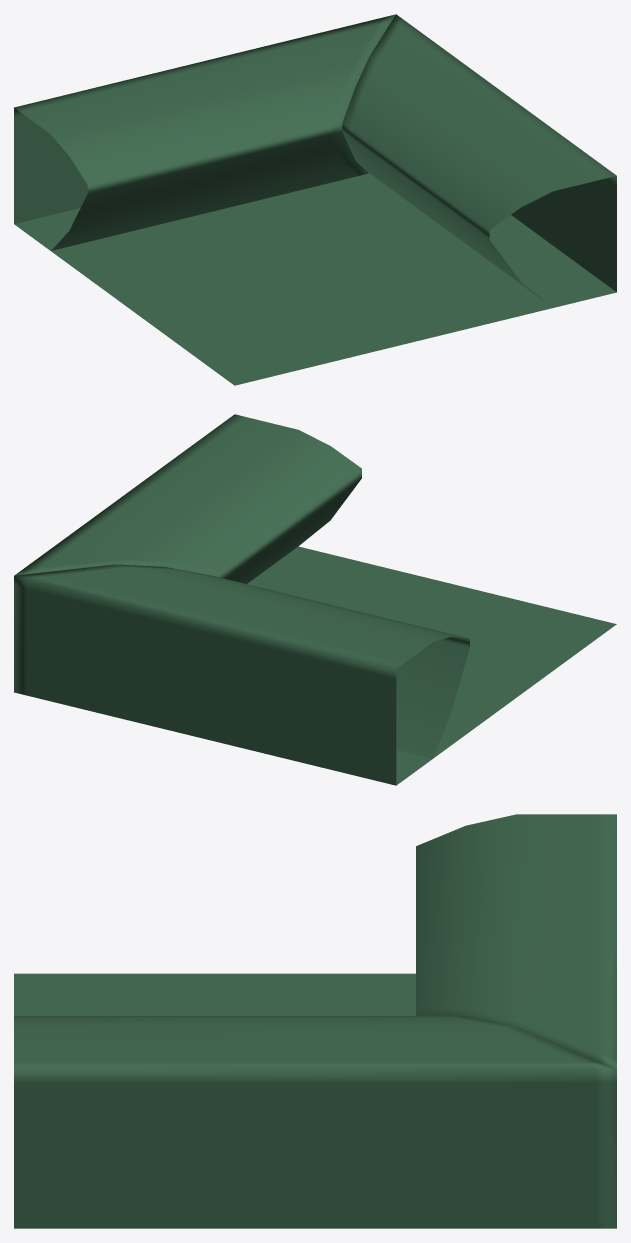
File: table_cushion_concave_a.fbx
The picture shows the model from 3 angles, top to bottom: view 1: azimuth 30°, elevation 25°; view 2: azimuth 150°, elevation 25°; view 3: azimuth 270°, elevation 25°; orthographic projection. The views are drawn at different scales.
Visible parts, largest first — view 1: lod0; view 2: lod0; view 3: lod0.
Part boxes in pixels (left/top/right/bottom): lod0: left=14, top=14, right=616, bottom=385; lod0: left=14, top=414, right=616, bottom=785; lod0: left=14, top=814, right=616, bottom=1228.
Size of the model in its own units: 6 by 1.75 by 6.
